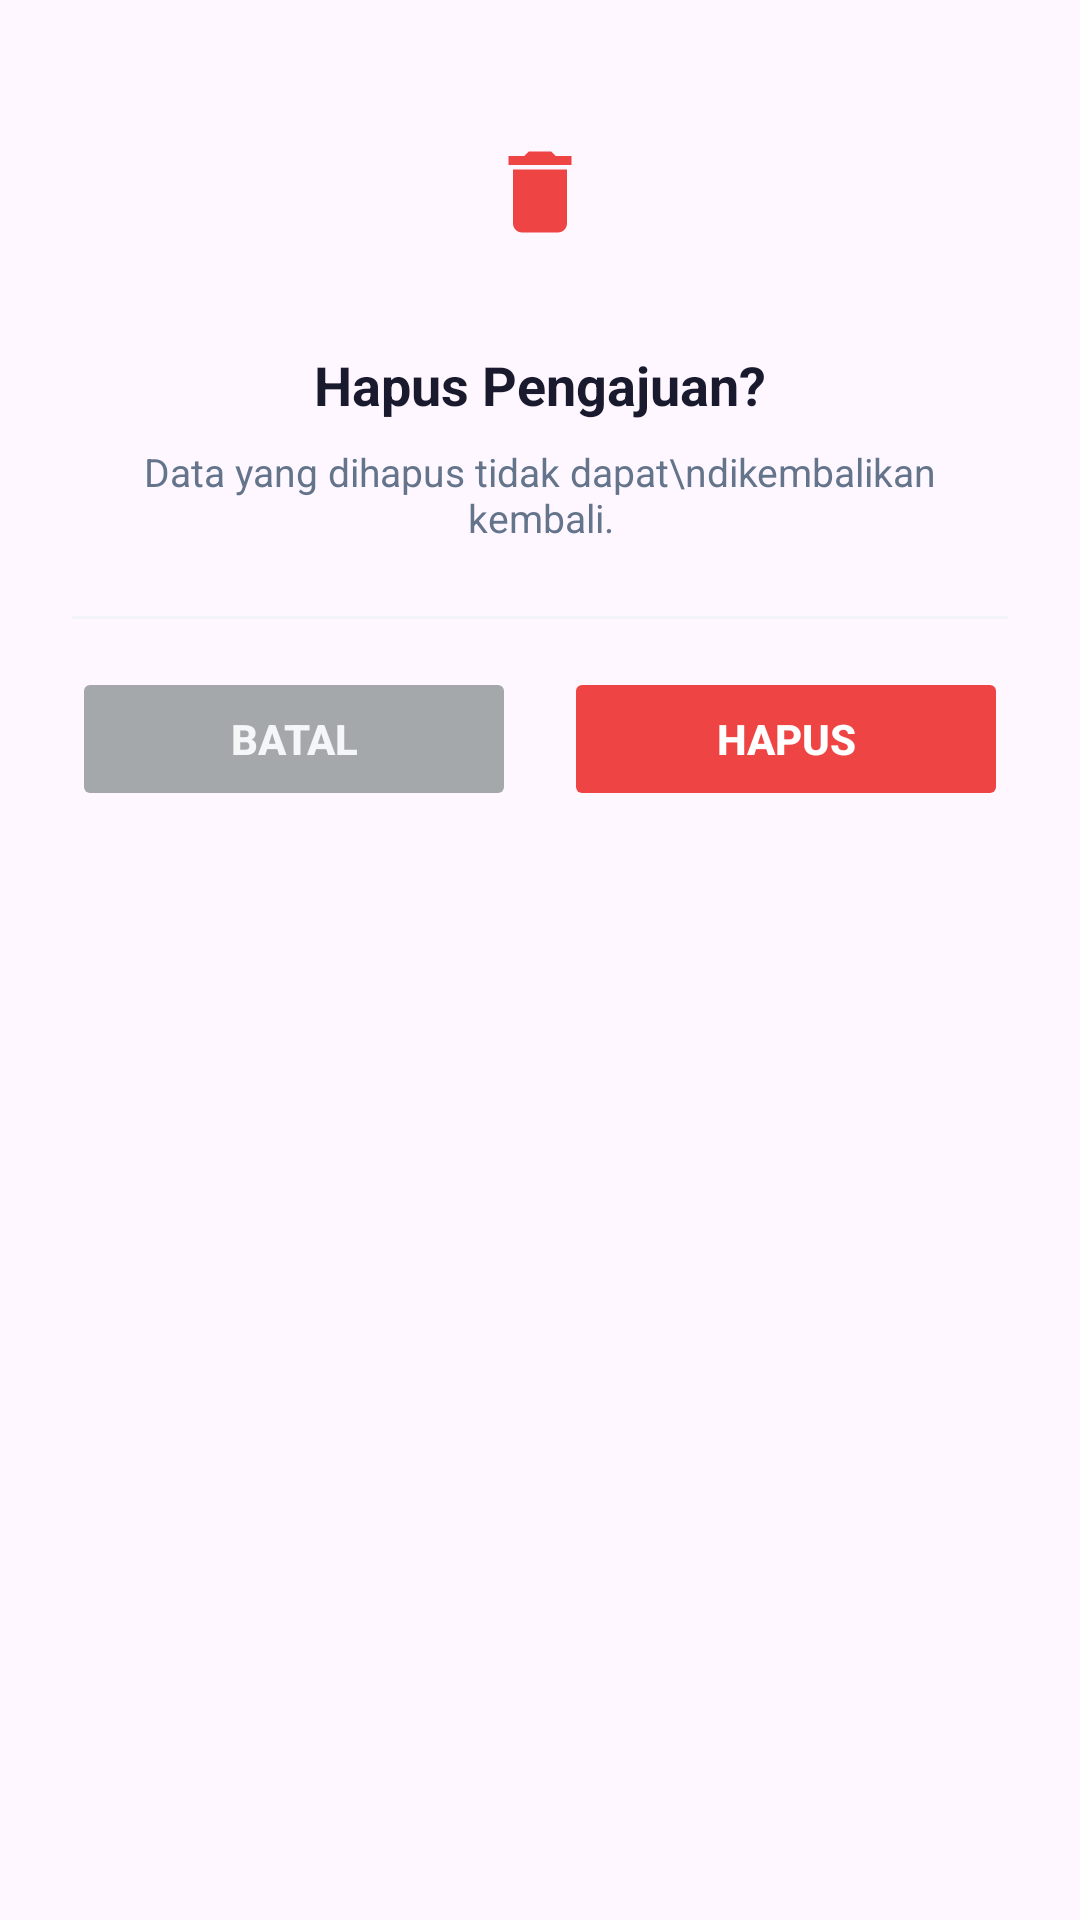

Icons on this 1080x1920 Android screen, each with the point to tap as (x=x, y=y):
delete: (x=540, y=192)
